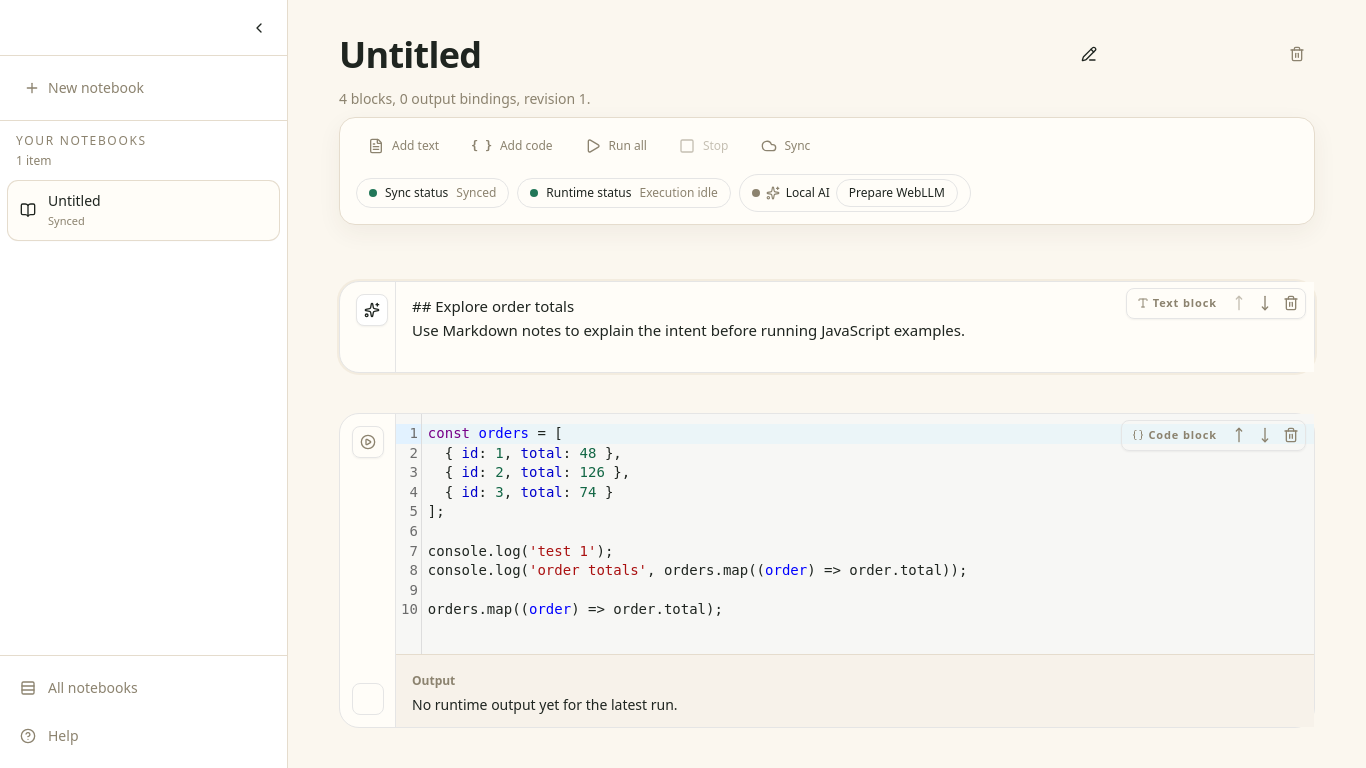
NotebookEditorPage › collapses the notebook sidebar into an icon rail
This screenshot has width=1366, height=768.
Click the button named "Collapse notebook sidebar". click: (259, 28)
box: [243,12,275,44]
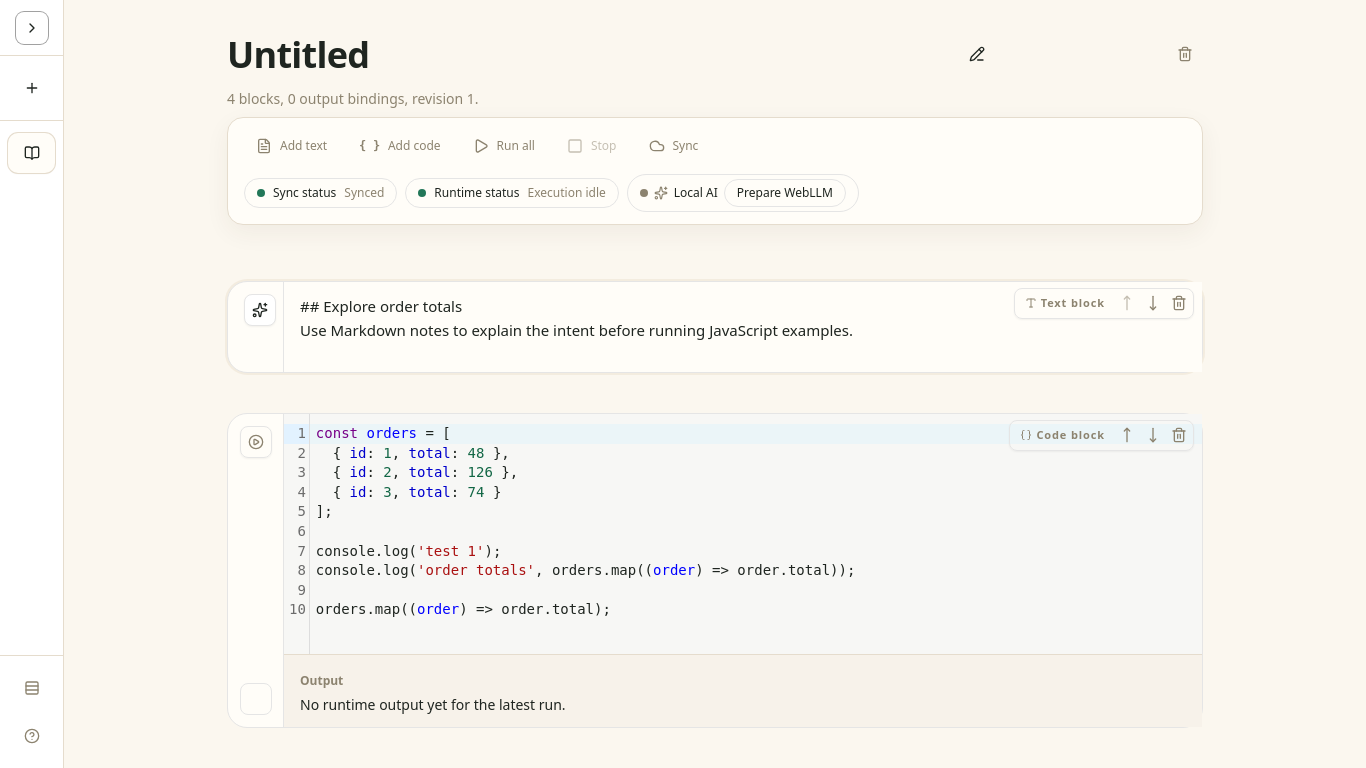
Expected: the button named "Create notebook" is shown, [8,68,55,108]
Result: the button named "Expand notebook sidebar" is shown at [16,12,48,44]
Result: the text "New notebook" is gone
